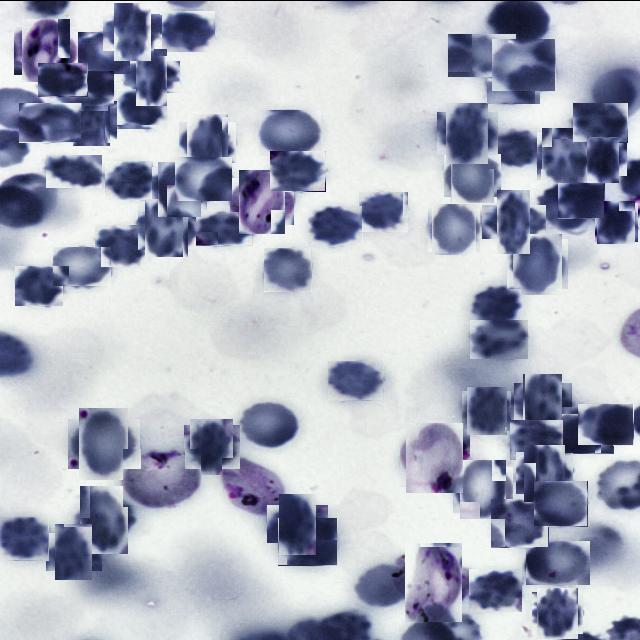red blood cell: (74, 412, 134, 473), (492, 38, 556, 91), (75, 490, 133, 548), (448, 33, 517, 77), (510, 236, 565, 290), (278, 517, 338, 565), (259, 109, 321, 155), (491, 498, 549, 547), (526, 540, 590, 584), (456, 462, 509, 515), (442, 106, 494, 158), (539, 129, 591, 181), (240, 401, 298, 447), (560, 406, 614, 453), (19, 102, 82, 142), (175, 156, 232, 200), (448, 150, 498, 200), (187, 421, 237, 471), (142, 202, 192, 252), (154, 163, 204, 213), (356, 563, 414, 606), (537, 184, 590, 231), (534, 480, 588, 526), (518, 377, 568, 426), (520, 448, 570, 497), (273, 498, 322, 548), (183, 117, 232, 166), (489, 197, 538, 246), (160, 8, 215, 51), (53, 246, 112, 286), (578, 403, 634, 445), (430, 205, 478, 253), (108, 8, 156, 56), (270, 150, 326, 191), (469, 568, 522, 611), (95, 223, 148, 266), (488, 126, 542, 168), (470, 319, 528, 358), (308, 205, 363, 246), (328, 360, 384, 400), (487, 63, 541, 104), (573, 102, 628, 142), (78, 31, 130, 73), (51, 528, 98, 574), (0, 516, 49, 560), (510, 419, 563, 459), (534, 589, 580, 635), (264, 247, 312, 291), (54, 70, 114, 105), (117, 88, 168, 129), (358, 191, 408, 232), (70, 96, 114, 142), (196, 211, 253, 245), (46, 154, 103, 188), (130, 54, 174, 98), (464, 388, 508, 432), (15, 265, 63, 305), (105, 160, 153, 199), (472, 285, 521, 323), (38, 62, 88, 96), (558, 182, 605, 218), (596, 201, 637, 242), (584, 138, 624, 178)
trophozoite: (400, 547, 468, 616), (122, 448, 200, 506), (403, 425, 467, 489), (222, 457, 286, 513), (234, 172, 290, 228), (18, 22, 74, 78)
